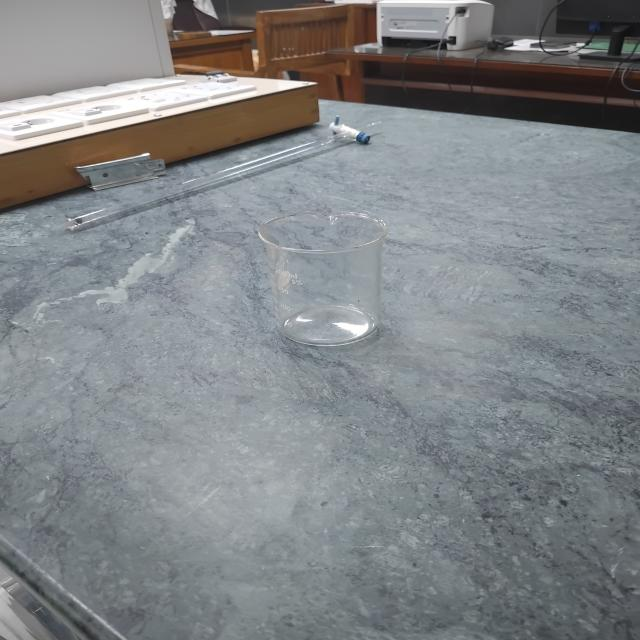Beaker: (232, 188, 424, 369)
